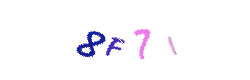7: (85, 0, 165, 80)
8: (56, 0, 136, 80)
F: (61, 0, 141, 80)
I: (103, 0, 183, 80)
